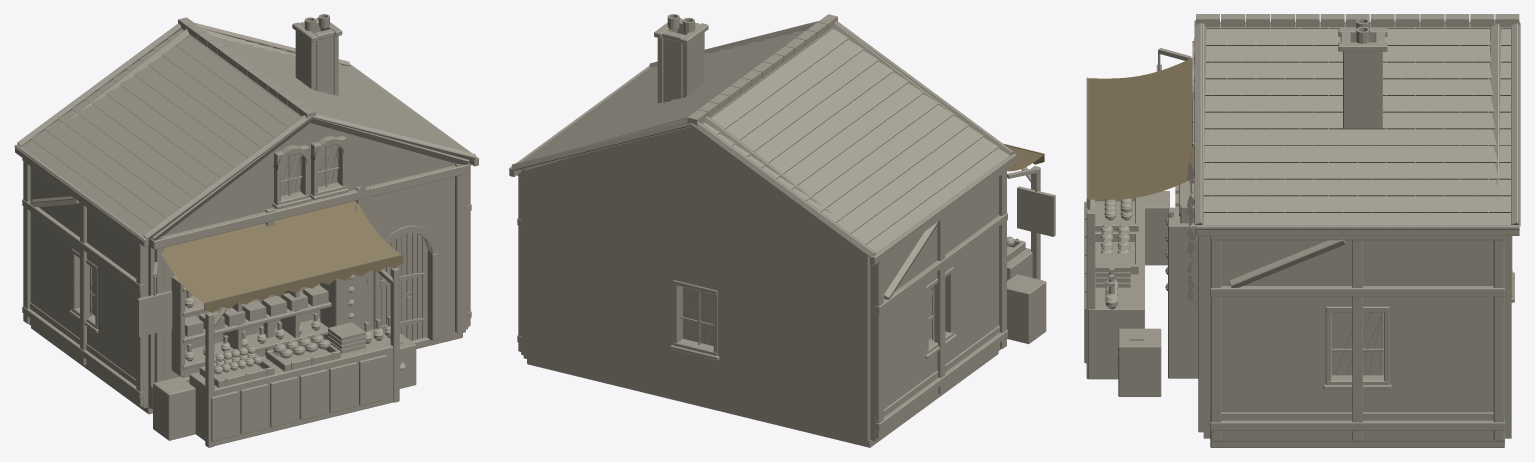
3 renders of one model, left to right at view 1: azimuth 30°, elevation 25°; view 2: azimuth 150°, elevation 25°; view 3: azimuth 270°, elevation 25°, orthographic. The views are drawn at different scales.
Parts seen in each view (by area): view 1: House_market_shop_wood, House_market_shop_slate, House_market_shop_wall, House_market_shop_details, House_market_shop_stone, House_market_shop_glass, House_market_shop_iron; view 2: House_market_shop_wall, House_market_shop_slate, House_market_shop_wood, House_market_shop_stone, House_market_shop_details, House_market_shop_glass, House_market_shop_iron; view 3: House_market_shop_slate, House_market_shop_wood, House_market_shop_wall, House_market_shop_details, House_market_shop_stone, House_market_shop_glass, House_market_shop_iron.
Boxes of the visible parts, box(x1,y1,x2,y2) form: House_market_shop_wood: box(15, 22, 478, 447); House_market_shop_slate: box(14, 17, 466, 241); House_market_shop_wall: box(30, 123, 467, 408); House_market_shop_details: box(137, 184, 405, 374); House_market_shop_stone: box(28, 14, 468, 414); House_market_shop_glass: box(90, 144, 337, 315); House_market_shop_iron: box(90, 144, 424, 332); House_market_shop_wall: box(521, 126, 998, 441); House_market_shop_slate: box(521, 14, 1016, 259); House_market_shop_wood: box(509, 21, 1046, 439); House_market_shop_stone: box(521, 14, 1000, 447); House_market_shop_details: box(1003, 143, 1055, 248); House_market_shop_glass: box(682, 286, 934, 345); House_market_shop_iron: box(683, 168, 1037, 343); House_market_shop_slate: box(1195, 14, 1519, 229); House_market_shop_wood: box(1084, 19, 1520, 440); House_market_shop_wall: box(1203, 236, 1511, 441); House_market_shop_details: box(1086, 58, 1196, 368); House_market_shop_stone: box(1192, 18, 1514, 447); House_market_shop_glass: box(1331, 312, 1383, 375); House_market_shop_iron: box(1158, 48, 1383, 373).
Bounding box in the file's own units: 7.69 × 6.11 × 6.51.
